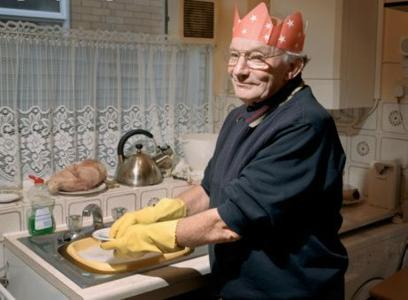person: (101, 14, 350, 300)
